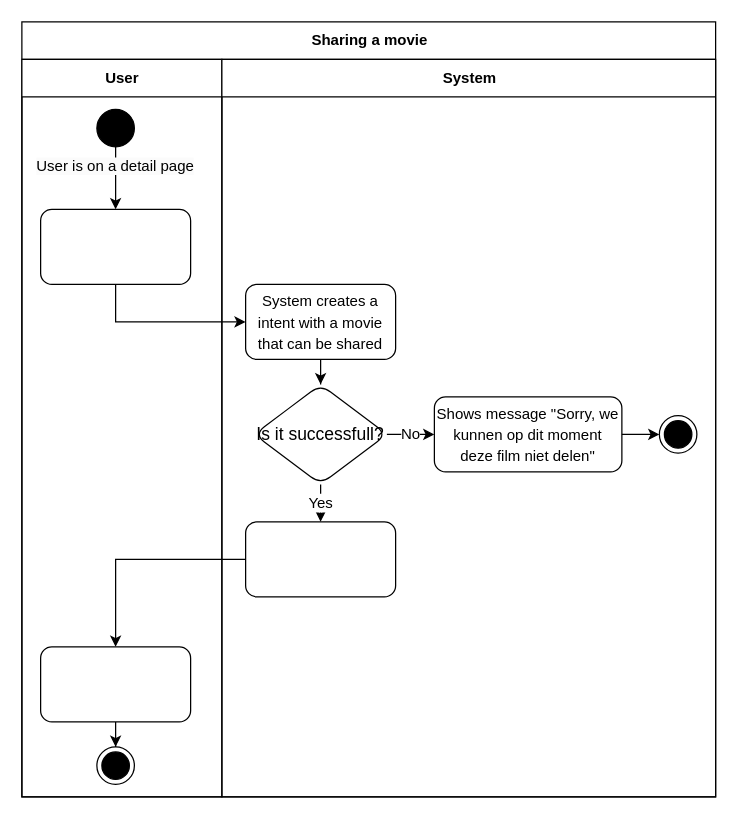
The diagram is 738 pixels wide and 819 high, and some of its shapes have lost their labels. The box of each missing label's shape, as (x1, y1, x2, y2) in pixels:
App opens share menu: (244, 521, 396, 597)
User clicks on the share button: (39, 208, 191, 284)
User selects the means of sharing: (39, 646, 191, 722)
